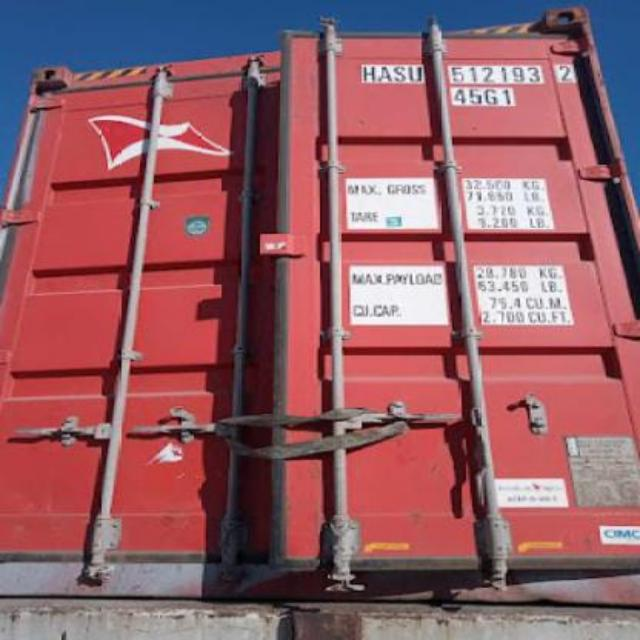1: (498, 60, 512, 82), (470, 59, 480, 86)
2: (552, 58, 580, 86), (478, 60, 498, 84)
3: (524, 58, 546, 84)
5: (446, 61, 466, 85)
9: (512, 58, 530, 88)
A: (376, 64, 392, 80)
H: (362, 57, 376, 81)
S: (394, 62, 404, 82)
U: (406, 61, 424, 85)
